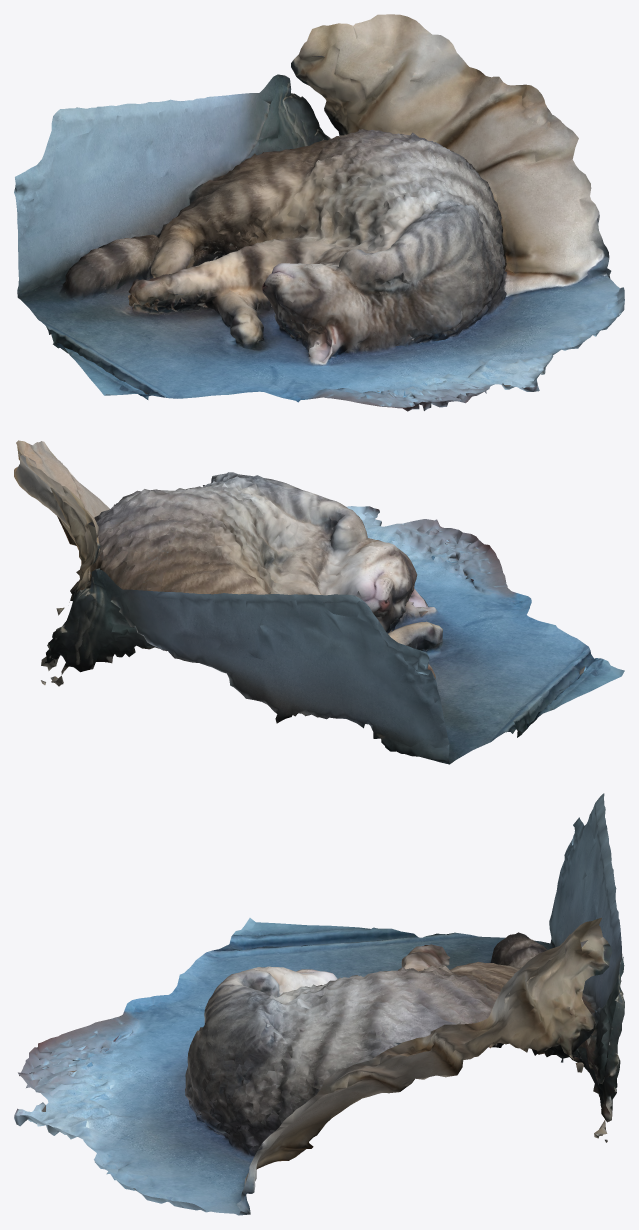
Rendered from bigotes.glb.
The picture shows the model from 3 angles, top to bottom: view 1: azimuth 30°, elevation 25°; view 2: azimuth 150°, elevation 25°; view 3: azimuth 270°, elevation 25°; orthographic projection. The views are drawn at different scales.
Visible parts, largest first — view 1: default_catr_0; view 2: default_catr_0; view 3: default_catr_0.
Boxes of the visible parts, x1,y1,x2,y2 form: default_catr_0: (14,14,624,411); default_catr_0: (14,440,624,764); default_catr_0: (14,793,624,1215).
Bounding box in the file's own units: 0.9788 × 0.3694 × 0.8554.
1 material, 1 textured.
